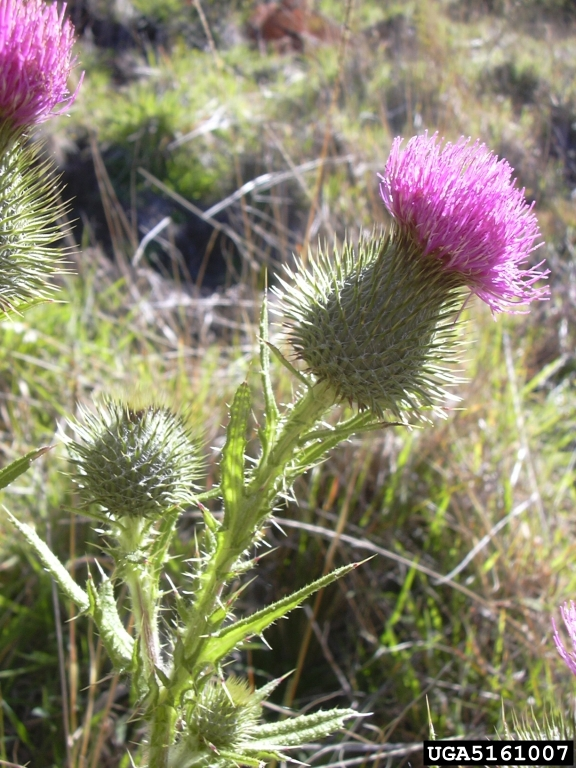thistle: (252, 129, 562, 407), (1, 1, 77, 325)
